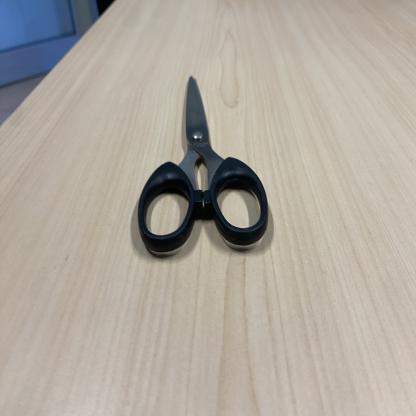scissors: (138, 76, 269, 254)
